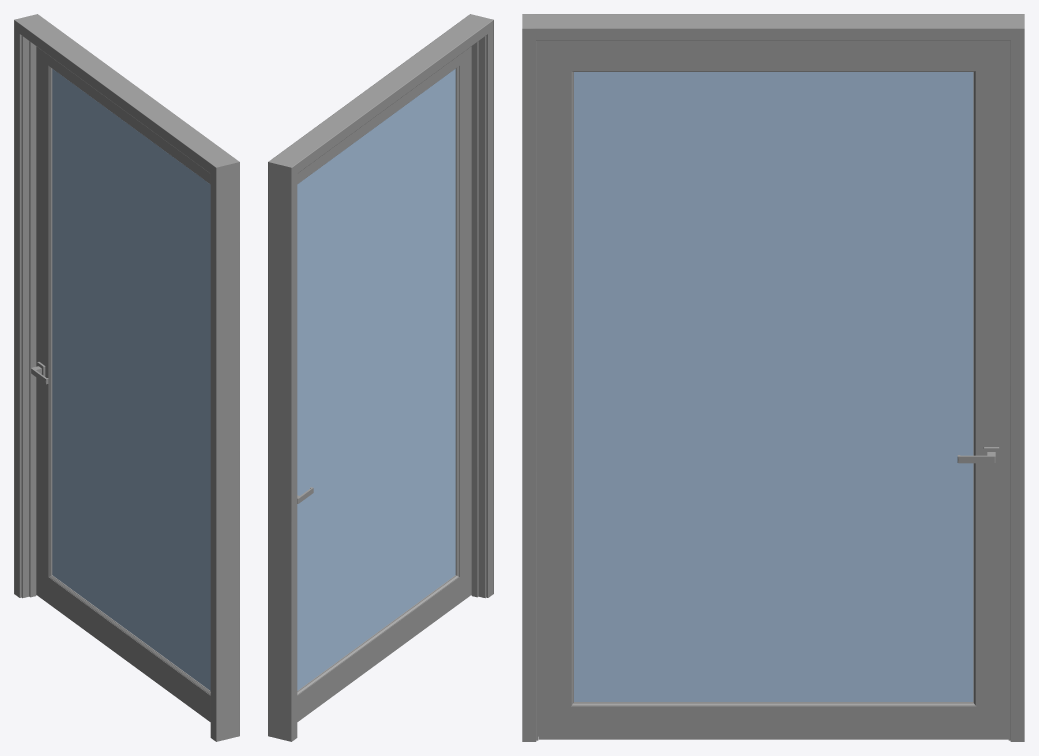
Rendered from Door_Entrance.fbx.
The picture shows the model from 3 angles, left to right: view 1: azimuth 30°, elevation 25°; view 2: azimuth 150°, elevation 25°; view 3: azimuth 270°, elevation 25°; orthographic projection. The views are drawn at different scales.
Parts seen in each view (by area): view 1: polySurface2, Door_Entrance; view 2: polySurface2, Door_Entrance; view 3: polySurface1, Door_Entrance.
Part boxes in pixels (x1,y1,x2,y2): polySurface2: [52, 69, 210, 690]; Door_Entrance: [14, 14, 239, 741]; polySurface2: [297, 69, 455, 690]; Door_Entrance: [268, 14, 493, 741]; polySurface1: [574, 72, 973, 701]; Door_Entrance: [522, 14, 1024, 741].
Bounding box in the file's own units: 16 × 280 × 179.
